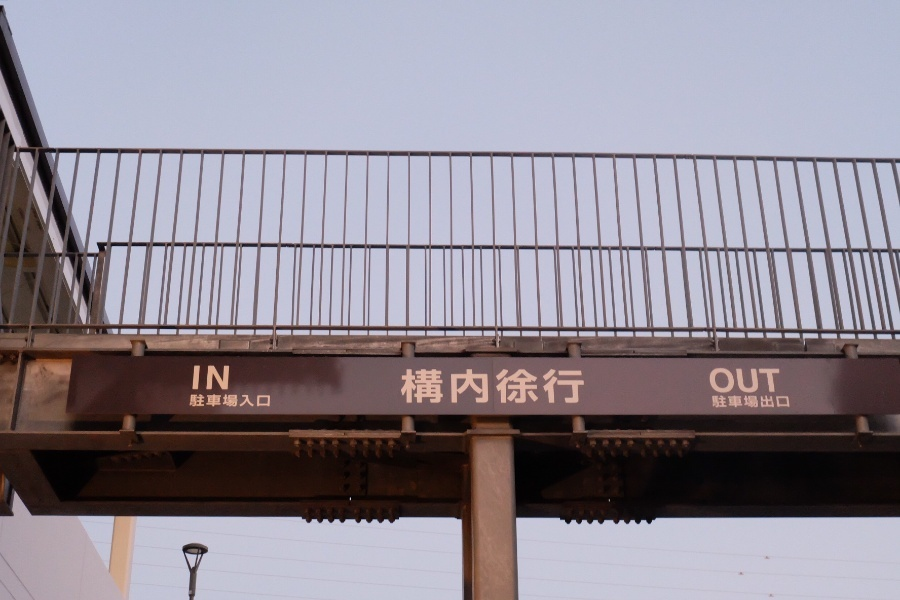text: (401, 369, 416, 404), (417, 369, 432, 404), (433, 369, 448, 404), (449, 369, 464, 404), (465, 369, 480, 404), (481, 369, 496, 404), (497, 369, 512, 404), (513, 369, 528, 404), (529, 369, 544, 404), (545, 369, 560, 404), (561, 369, 576, 404), (577, 369, 590, 404), (193, 364, 208, 392), (209, 364, 224, 392), (721, 367, 736, 395), (737, 367, 752, 395), (753, 367, 768, 395), (706, 367, 720, 395), (769, 367, 783, 395), (193, 394, 208, 410), (209, 394, 224, 410), (225, 394, 240, 410), (241, 394, 256, 410), (257, 394, 271, 410), (721, 395, 736, 408), (737, 395, 752, 408), (753, 395, 768, 408), (769, 395, 784, 408), (225, 364, 231, 392), (711, 395, 720, 408), (785, 395, 793, 408), (189, 394, 192, 410)
